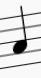note: (10, 4, 29, 69)
